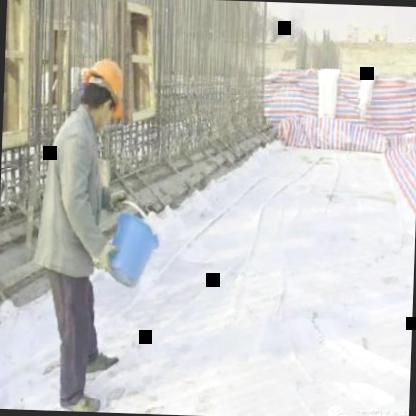helmet: (76, 57, 127, 122)
